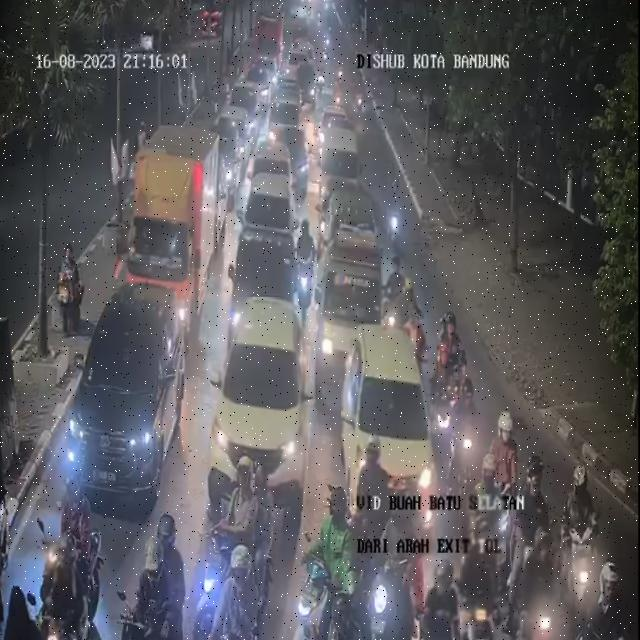cars: (63, 283, 185, 517), (212, 297, 308, 504), (341, 321, 438, 519), (316, 228, 387, 382), (240, 172, 298, 270), (322, 122, 362, 196), (211, 105, 242, 197), (252, 135, 296, 191), (269, 94, 304, 152), (280, 124, 312, 186), (232, 78, 264, 138), (322, 100, 351, 142)
motorcycle: (199, 453, 259, 640), (302, 489, 352, 640), (371, 489, 421, 640), (460, 494, 506, 639), (560, 464, 599, 623), (518, 522, 560, 640), (512, 453, 548, 585), (220, 543, 267, 640), (45, 532, 88, 638), (134, 536, 174, 638), (596, 555, 640, 640), (449, 369, 480, 486), (482, 408, 517, 511), (425, 556, 460, 638), (4, 580, 45, 640), (66, 484, 96, 565), (357, 440, 390, 512), (294, 216, 319, 306), (438, 308, 463, 390), (381, 248, 405, 316), (398, 270, 416, 349), (390, 197, 408, 260)
truck: (118, 126, 217, 337)
